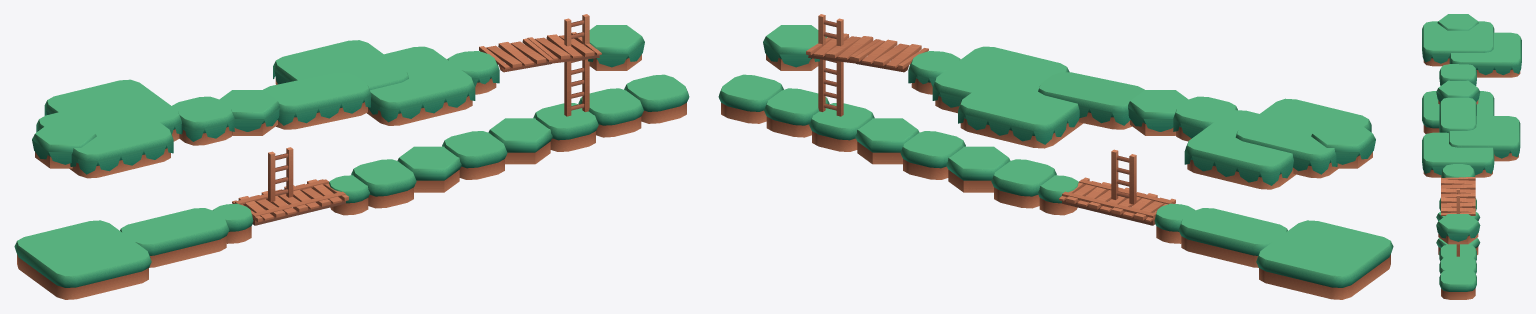
The model's file is dkGraphicsData.glb.
3 renders of one model, left to right at view 1: azimuth 30°, elevation 25°; view 2: azimuth 150°, elevation 25°; view 3: azimuth 270°, elevation 25°, orthographic. The views are drawn at different scales.
Parts seen in each view (by area): view 1: block-grass-low-large.001, block-grass-overhang-low-large.003, block-grass-overhang-low-large, block-grass-overhang-low-long, block-grass-low-long, block-grass-overhang-low-large.001, block-grass-overhang-low-large.002, block-grass-overhang-low, block-grass-low.006, block-grass-low, block-grass-low.004, block-grass-low-hexagon (+15 smaller); view 2: block-grass-low-large.001, block-grass-overhang-low-large.001, block-grass-overhang-low-large.002, block-grass-overhang-low-large.003, block-grass-low-long, block-grass-overhang-low-large, block-grass-overhang-low-long, block-grass-low.006, block-grass-low, block-grass-low.004, block-grass-low-hexagon, block-grass-low-hexagon.001 (+15 smaller); view 3: block-grass-overhang-low-large.003, block-grass-overhang-low-large.001, block-grass-overhang-low-large, block-grass-overhang-low-large.002, block-grass-overhang-low-long, block-grass-overhang-low-hexagon, block-grass-low-large.001, block-grass-low, block-grass-overhang-low-hexagon.001, block-grass-overhang-low, platform-ramp, platform-ramp.001 (+7 smaller).
Boxes of the visible parts, box(x1,y1,x2,y2) form: block-grass-low-large.001: box(14, 220, 151, 299); block-grass-overhang-low-large.003: box(36, 98, 173, 178); block-grass-overhang-low-large: box(367, 46, 475, 125); block-grass-overhang-low-long: box(263, 72, 371, 129); block-grass-low-long: box(120, 208, 229, 267); block-grass-overhang-low-large.001: box(273, 40, 408, 90); block-grass-overhang-low-large.002: box(44, 79, 181, 141); block-grass-overhang-low: box(172, 96, 234, 145); block-grass-low.006: box(351, 159, 416, 208); block-grass-low: box(624, 74, 689, 123); block-grass-low.004: box(442, 131, 507, 179); block-grass-low-hexagon: box(397, 146, 461, 192); block-grass-low-large.001: box(1256, 220, 1393, 299); block-grass-overhang-low-large.001: box(958, 69, 1083, 148); block-grass-overhang-low-large.002: box(1184, 110, 1295, 189); block-grass-overhang-low-large.003: box(1235, 98, 1371, 178); block-grass-low-long: box(1178, 208, 1287, 267); block-grass-overhang-low-large: box(932, 46, 1069, 113); block-grass-overhang-low-long: box(1038, 72, 1144, 129); block-grass-low.006: box(991, 159, 1056, 208); block-grass-low: box(718, 74, 783, 123); block-grass-low.004: box(900, 131, 965, 179); block-grass-low-hexagon: box(946, 146, 1010, 192); block-grass-low-hexagon.001: box(855, 118, 919, 164); block-grass-overhang-low-large.003: box(1422, 21, 1494, 66); block-grass-overhang-low-large.001: box(1449, 116, 1520, 161); block-grass-overhang-low-large: box(1422, 132, 1494, 177); block-grass-overhang-low-large.002: box(1449, 32, 1521, 77); block-grass-overhang-low-long: box(1439, 97, 1476, 132); block-grass-overhang-low-hexagon: box(1436, 214, 1480, 244); block-grass-low-large.001: box(1422, 91, 1494, 133); block-grass-low: box(1439, 269, 1476, 299); block-grass-overhang-low-hexagon.001: box(1436, 80, 1480, 104); block-grass-overhang-low: box(1439, 64, 1476, 85); platform-ramp: box(1441, 194, 1475, 215); platform-ramp.001: box(1441, 177, 1475, 195).
Bounding box in the file's own units: 56.76 × 11.99 × 11.49.
Materials: 27 (27 with a texture image).
